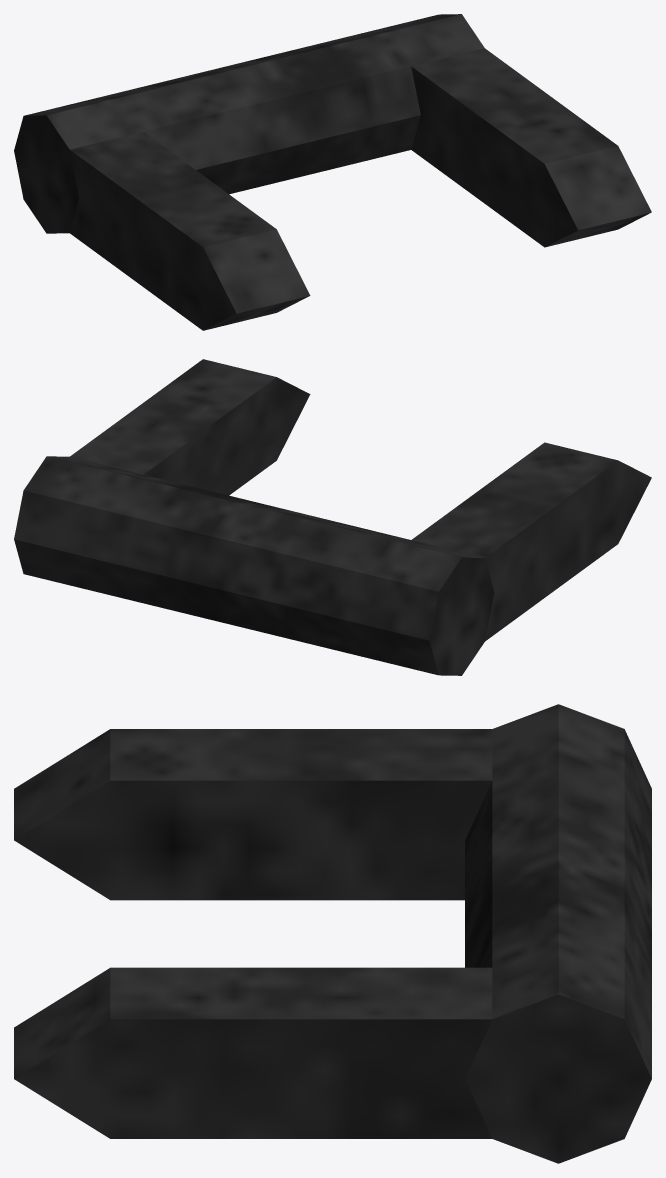
The model's file is DoorKnob.fbx.
3 views of the same model, one above another, from view 1: azimuth 30°, elevation 25°; view 2: azimuth 150°, elevation 25°; view 3: azimuth 270°, elevation 25° (orthographic). The views are drawn at different scales.
Parts seen in each view (by area): view 1: DoorKnob; view 2: DoorKnob; view 3: DoorKnob.
Part boxes in pixels (<box>): DoorKnob: <box>14,14,651,330</box>; DoorKnob: <box>14,359,651,675</box>; DoorKnob: <box>14,704,651,1163</box>.
Bounding box in the file's own units: 14.7 × 4 × 13.65.
